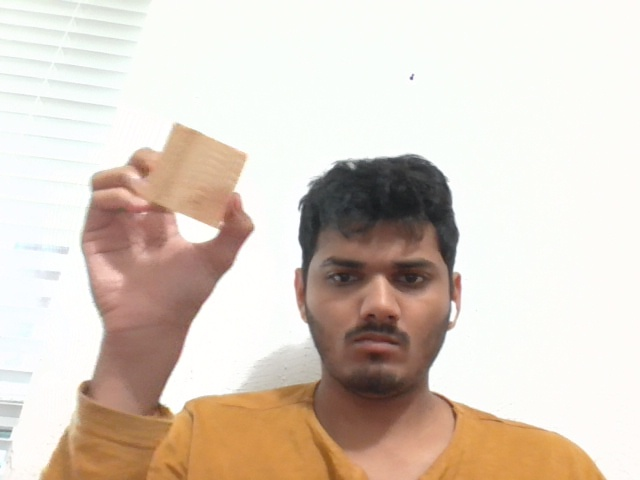NormalBlock: (143, 123, 249, 227)
